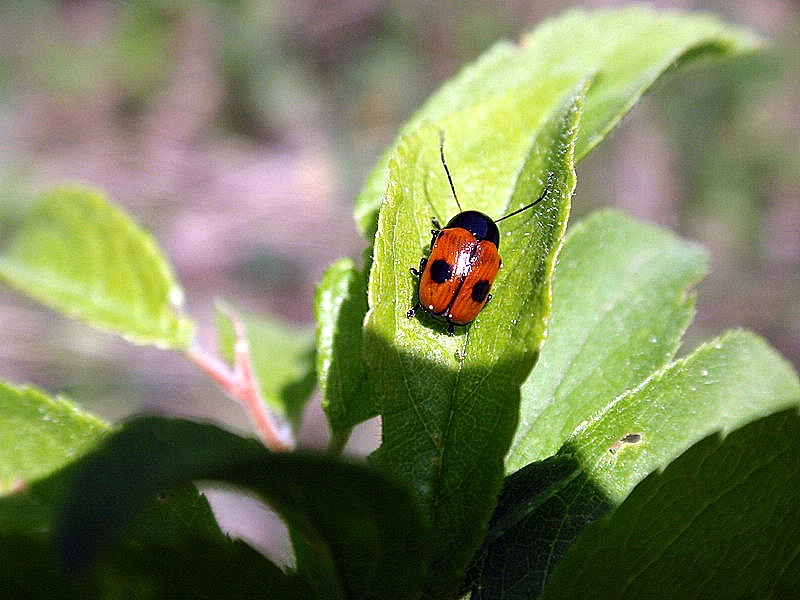Cryptocephalus_bipunctatus: (406, 123, 554, 338)
